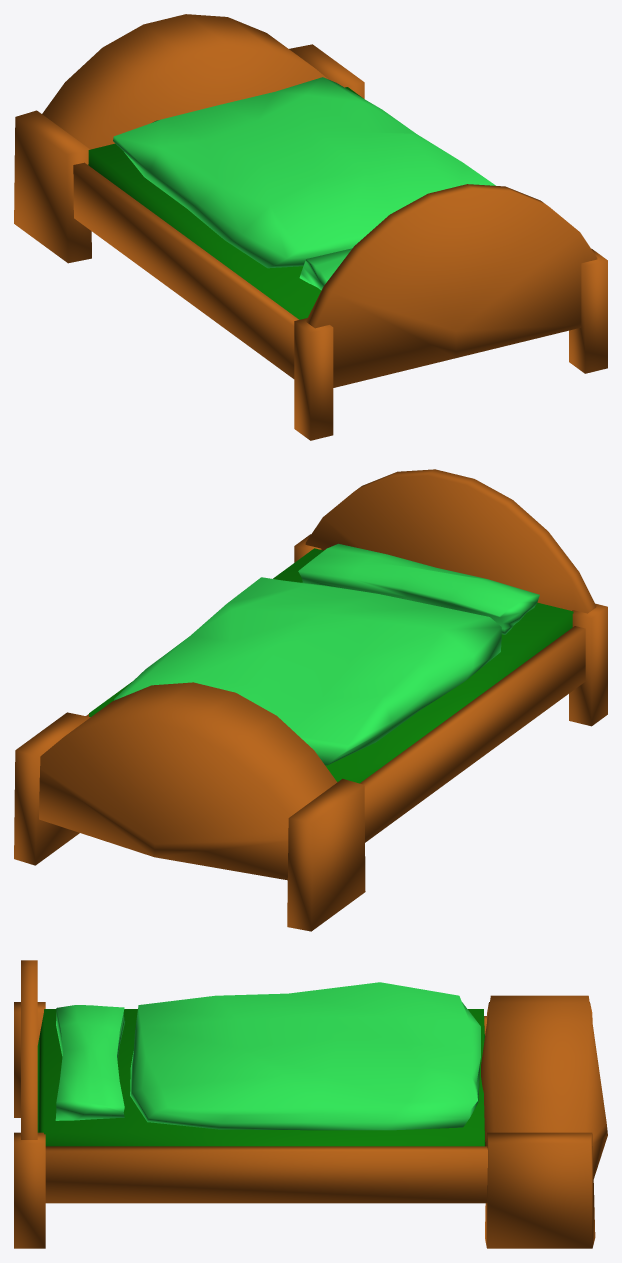
Rendered from Bed3.fbx.
The picture shows the model from 3 angles, top to bottom: view 1: azimuth 30°, elevation 25°; view 2: azimuth 150°, elevation 25°; view 3: azimuth 270°, elevation 25°; orthographic projection. The views are drawn at different scales.
Visible parts, largest first — view 1: Bed, pillow; view 2: Bed, pillow; view 3: pillow, Bed.
Part boxes in pixels (x1=…): Bed: x1=14, y1=14, x2=607, y2=440; pillow: x1=88, y1=77, x2=495, y2=319; Bed: x1=14, y1=469, x2=607, y2=931; pillow: x1=89, y1=543, x2=573, y2=783; pillow: x1=37, y1=982, x2=485, y2=1146; Bed: x1=14, y1=960, x2=607, y2=1248.
Bounding box in the file's own units: 165 × 109 × 292.
